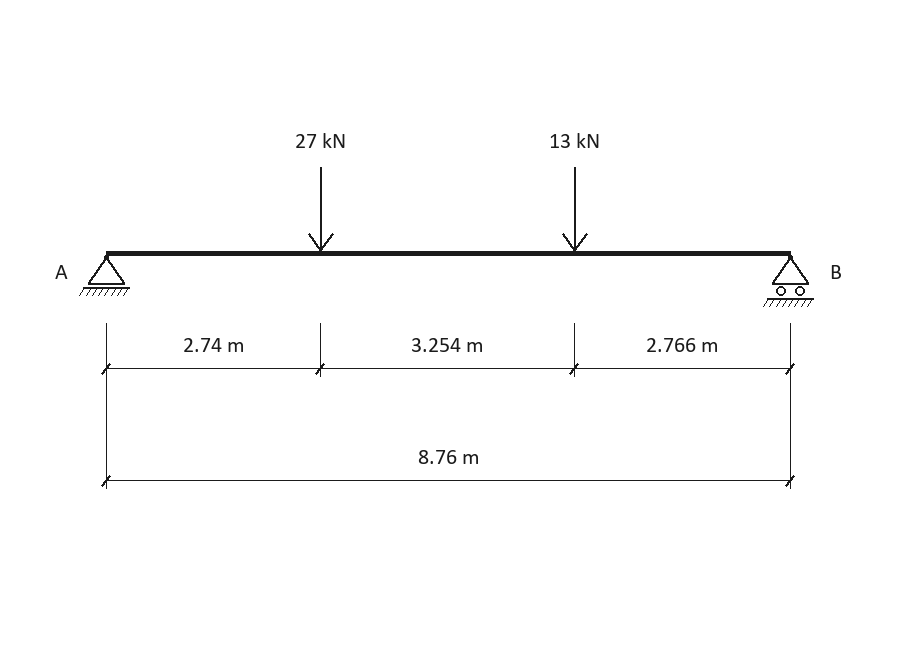pin_support: (79, 255, 130, 296)
point_load: (308, 167, 334, 252), (562, 167, 588, 252)
roller_support: (763, 255, 814, 307)
